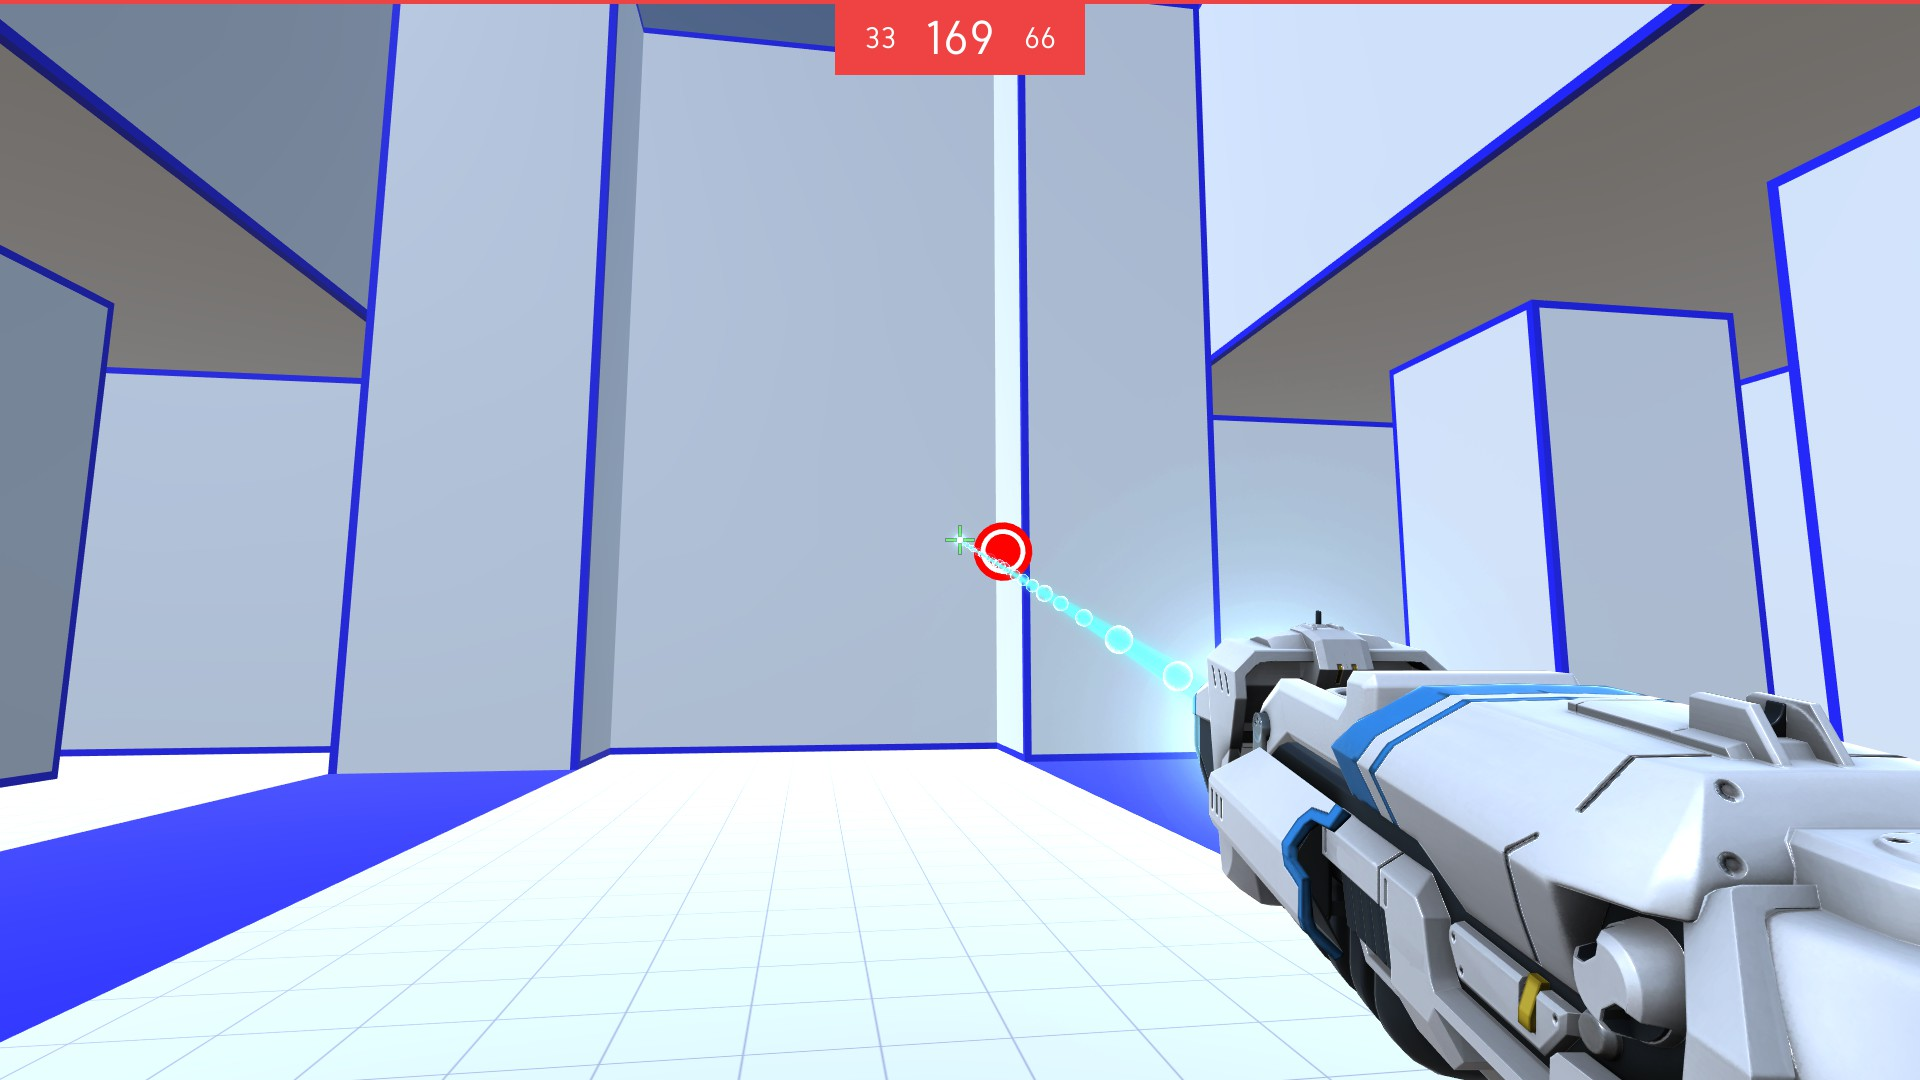target: (971, 521, 1039, 582)
